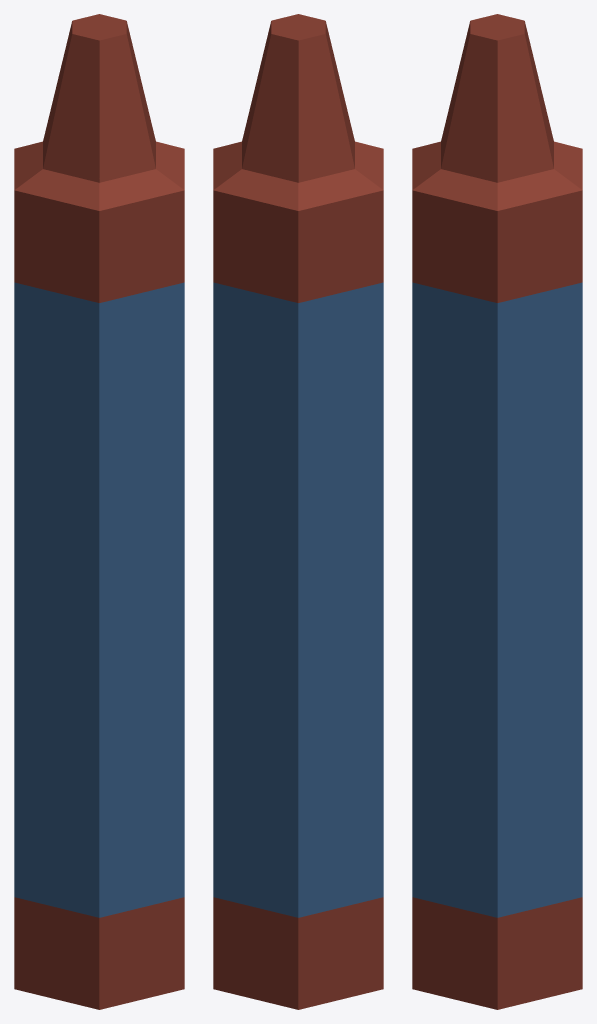
Rendered from SM_Prop_Crayon_01.fbx.
The picture shows the model from 3 angles, left to right: view 1: azimuth 30°, elevation 25°; view 2: azimuth 150°, elevation 25°; view 3: azimuth 270°, elevation 25°; orthographic projection.
Visible parts, largest first — view 1: SM_Prop_Crayon_01; view 2: SM_Prop_Crayon_01; view 3: SM_Prop_Crayon_01.
Part boxes in pixels (box(x1,y1,x2,y2)): SM_Prop_Crayon_01: box(14, 14, 184, 1009); SM_Prop_Crayon_01: box(213, 14, 383, 1009); SM_Prop_Crayon_01: box(412, 14, 582, 1009).
Size of the model in its own units: 3.35 by 17.68 by 2.9.
